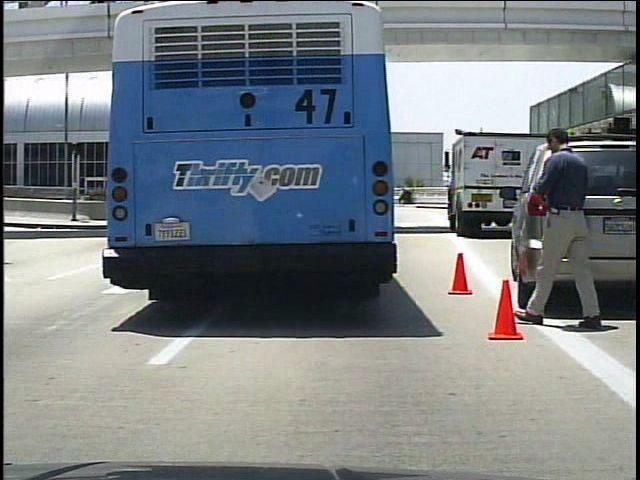person: (513, 118, 602, 338)
